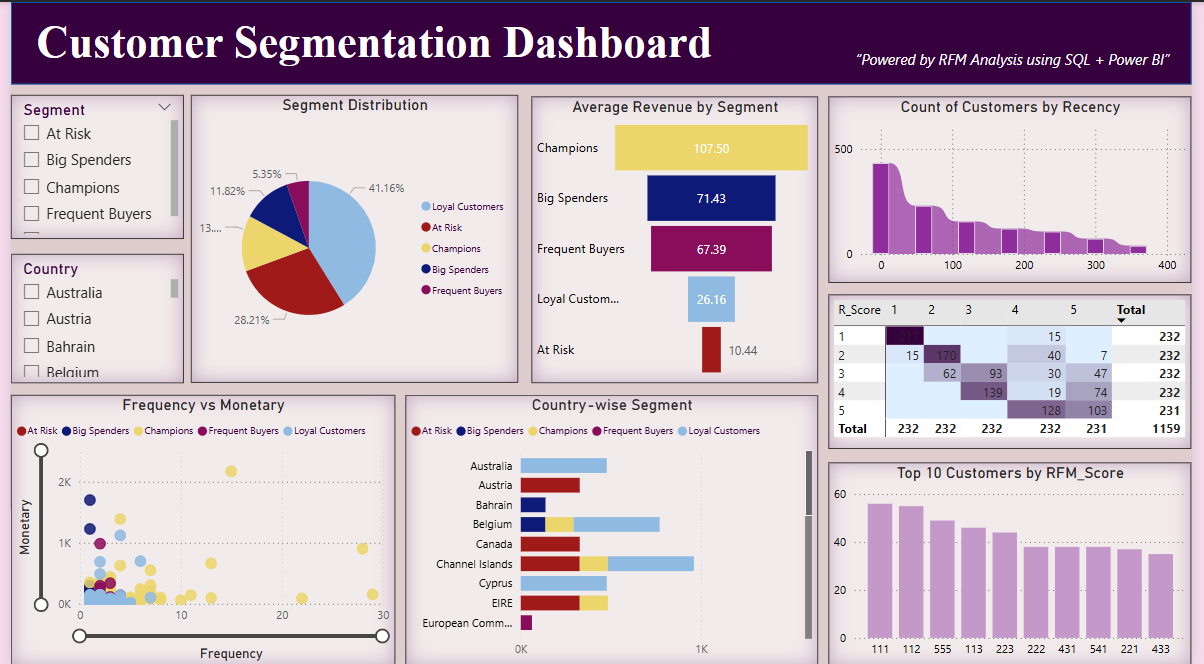

What the dashboard file says about the page in this screenshot:
{"tool":"powerbi","page":{"name":"Page 1","canvas":[1280,720],"ordinal":0},"visuals":[{"type":"pieChart","title":"Segment Distribution","fields":{"Y":["CountNonNull(online_retail v_customersegments.CustomerId)"],"Category":["online_retail v_customersegments.Segment"]},"box":[195.2,100.8,354.6,312.3],"z":0},{"type":"funnel","title":"Average Revenue by Segment ","fields":{"Category":["online_retail v_customersegments.Segment"],"Y":["Avg(online_retail v_customersegments.Monetary)"]},"box":[564.4,102.5,310.7,310.7],"z":1000},{"type":"pivotTable","fields":{"Rows":["online_retail v_customersegments.R_Score"],"Columns":["online_retail v_customersegments.F_Score"],"Values":["CountNonNull(online_retail v_customersegments.CustomerId)"]},"box":[886.5,317.2,393.6,167.5],"z":2000},{"type":"columnChart","title":"Top 10 Customers by RFM_Score","fields":{"Category":["online_retail v_customersegments.RFM_Score"],"Y":["CountNonNull(online_retail v_customersegments.CustomerId)"]},"box":[886.5,499.3,393.6,221.2],"z":3000},{"type":"scatterChart","title":"Frequency vs Monetary","fields":{"X":["online_retail v_customersegments.Frequency"],"Y":["online_retail v_customersegments.Monetary"],"Series":["online_retail v_customersegments.Segment"]},"box":[0,426.2,416.4,294.4],"z":4000},{"type":"ribbonChart","title":"Count of Customers by Recency","fields":{"Category":["online_retail v_customersegments.Recency_Bins"],"Y":["CountNonNull(online_retail v_customersegments.CustomerId)"]},"box":[886.5,102.5,393.6,201.7],"z":5000},{"type":"barChart","title":"Country-wise Segment ","fields":{"Series":["online_retail v_customersegments.Segment"],"Category":["online_retail onlineretail.Country"],"Y":["CountNonNull(online_retail v_customersegments.CustomerId)"]},"box":[427.8,426.2,447.3,294.4],"z":6000},{"type":"shape","box":[0,0,1280.1,89.5],"z":7000},{"type":"textbox","box":[22.8,11.4,795.4,91.1],"z":8000},{"type":"slicer","fields":{"Values":["online_retail v_customersegments.Segment"]},"box":[0,100.8,187.1,156.1],"z":9000},{"type":"slicer","fields":{"Values":["online_retail onlineretail.Country"]},"box":[0,273.3,187.1,139.9],"z":10000},{"type":"textbox","box":[910.9,45.5,369.2,43.9],"z":11000}]}

Visuals, with their boxes in screenshot pixels (x1, y1, x2, y2), scaled from the page's 1280x720 canvas onto the 1204x664 screenshot:
"Segment Distribution" pieChart: crop(184, 93, 517, 381)
"Average Revenue by Segment " funnel: crop(531, 95, 823, 381)
pivotTable - online_retail v_customersegments.R_Score x online_retail v_customersegments.F_Score: crop(834, 293, 1203, 447)
"Top 10 Customers by RFM_Score" columnChart: crop(834, 460, 1203, 663)
"Frequency vs Monetary" scatterChart: crop(0, 393, 392, 663)
"Count of Customers by Recency" ribbonChart: crop(834, 95, 1203, 281)
"Country-wise Segment " barChart: crop(402, 393, 823, 663)
shape: crop(0, 0, 1203, 83)
textbox: crop(21, 11, 770, 95)
slicer - online_retail v_customersegments.Segment: crop(0, 93, 176, 237)
slicer - online_retail onlineretail.Country: crop(0, 252, 176, 381)
textbox: crop(857, 42, 1203, 82)
